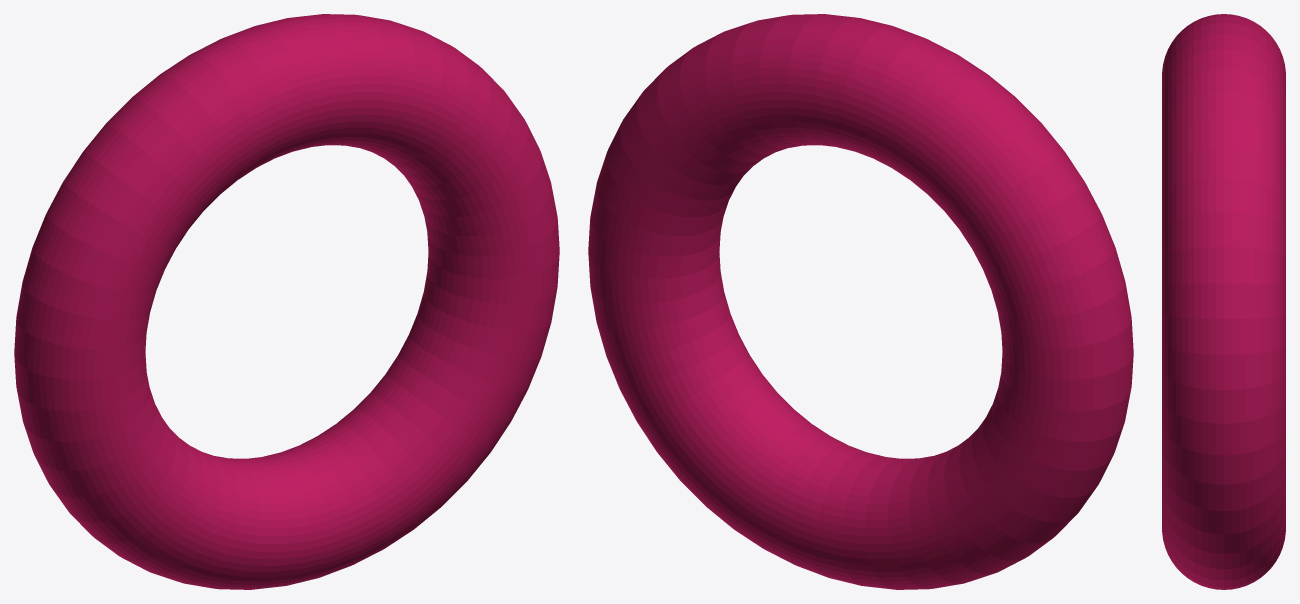
3 renders of one model, left to right at view 1: azimuth 30°, elevation 25°; view 2: azimuth 150°, elevation 25°; view 3: azimuth 270°, elevation 25°, orthographic. The views are drawn at different scales.
Visible parts, largest first — view 1: world; view 2: world; view 3: world.
Part boxes in pixels (bbox=[...]): world: bbox=[14, 14, 559, 589]; world: bbox=[588, 14, 1133, 589]; world: bbox=[1162, 14, 1285, 589].
Size of the model in its own units: 36.53 by 36.46 by 7.85.
